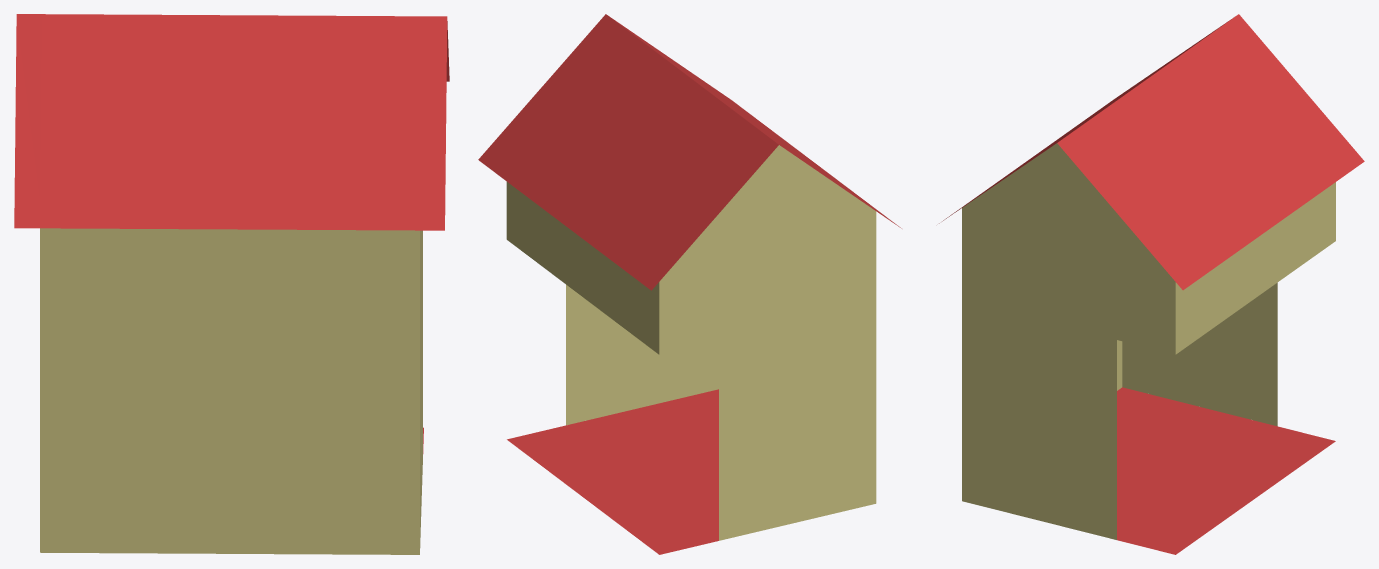
3 renders of one model, left to right at view 1: azimuth 30°, elevation 25°; view 2: azimuth 150°, elevation 25°; view 3: azimuth 270°, elevation 25°, orthographic. The views are drawn at different scales.
Parts seen in each view (by area): view 1: group_5, group_3, group_4; view 2: group_5, group_3, group_6; view 3: group_5, group_3, group_6.
Part boxes in pixels (x1,y1,x2,y2): group_5: [40, 228, 422, 554]; group_3: [14, 14, 447, 230]; group_4: [14, 14, 449, 228]; group_5: [506, 145, 876, 540]; group_3: [478, 14, 898, 290]; group_6: [507, 389, 718, 554]; group_5: [962, 143, 1335, 539]; group_3: [939, 14, 1364, 290]; group_6: [1117, 387, 1335, 554].
Bounding box in the file's own units: 16.28 × 15.47 × 15.52.
